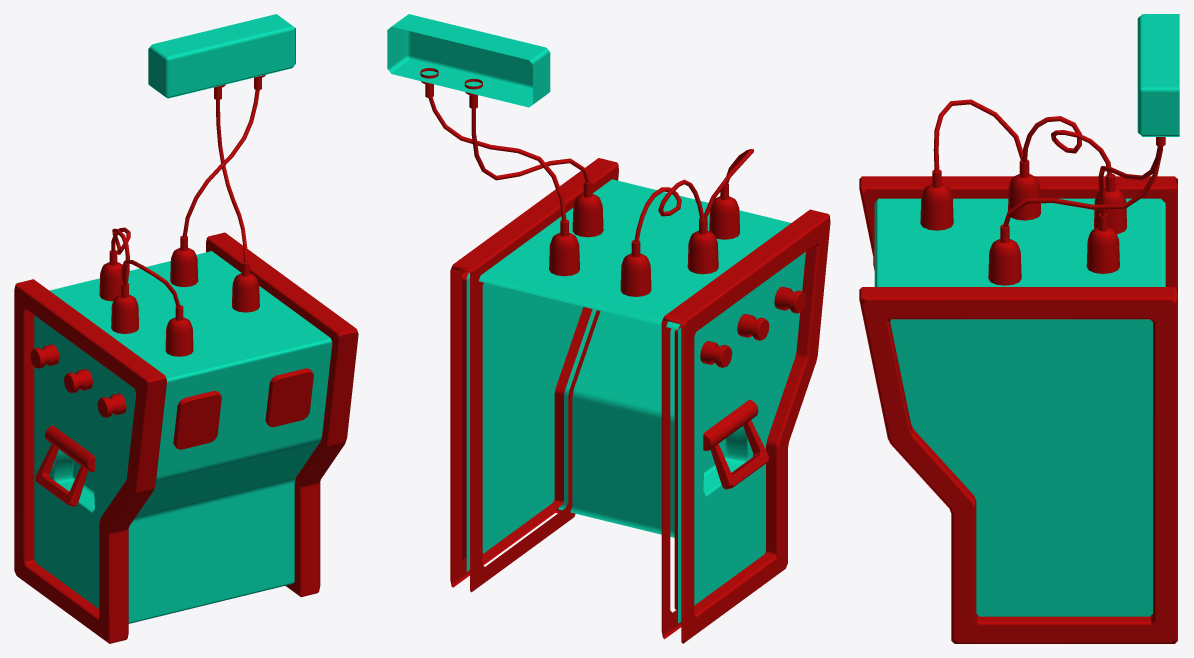
File: Transformateur_Metal_01.FBX
The picture shows the model from 3 angles, left to right: view 1: azimuth 30°, elevation 25°; view 2: azimuth 150°, elevation 25°; view 3: azimuth 270°, elevation 25°; orthographic projection. The views are drawn at different scales.
Visible parts, largest first — view 1: Transformateur_Metal_01_LOD0; view 2: Transformateur_Metal_01_LOD0; view 3: Transformateur_Metal_01_LOD0.
Part boxes in pixels (bbox=[...]): Transformateur_Metal_01_LOD0: bbox=[14, 14, 358, 643]; Transformateur_Metal_01_LOD0: bbox=[387, 14, 830, 643]; Transformateur_Metal_01_LOD0: bbox=[859, 14, 1179, 643].
Bounding box in the file's own units: 230 × 392 × 193.
